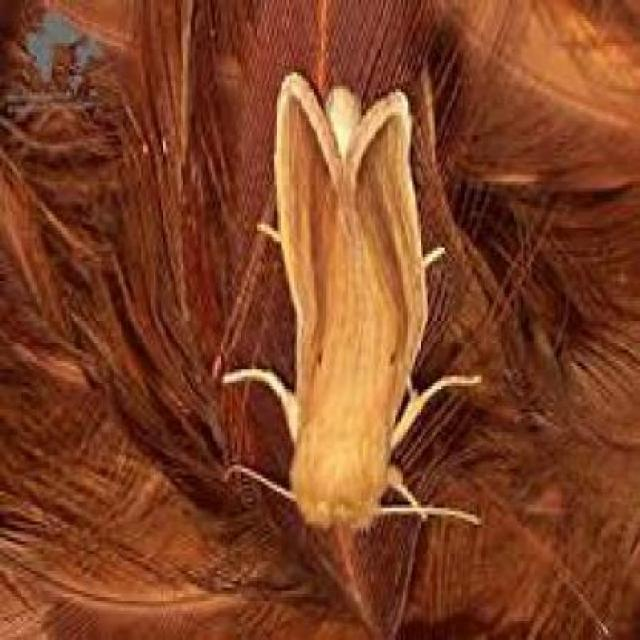stem-borer: (257, 68, 431, 548)
